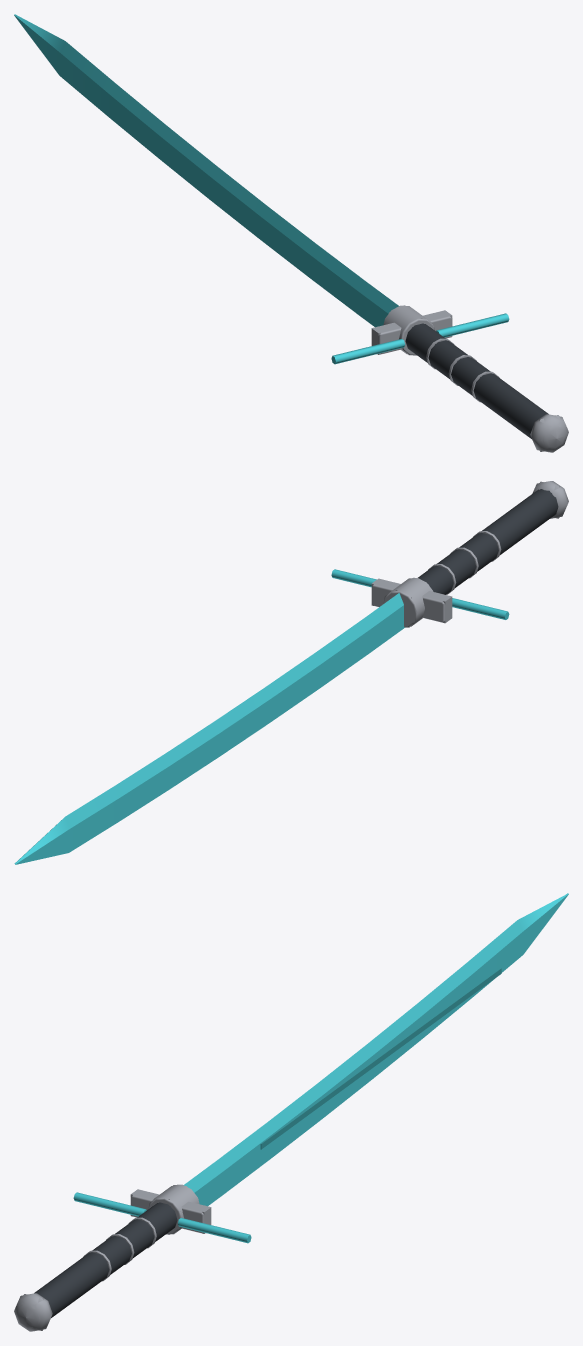
The model's file is m_arcsabre.glb.
3 views of the same model, one above another, from view 1: azimuth 30°, elevation 25°; view 2: azimuth 150°, elevation 25°; view 3: azimuth 330°, elevation 25° (orthographic).
Visible parts, largest first — view 1: L0, L1; view 2: L0, L1; view 3: L0, L1.
Part boxes in pixels (x1,y1,x2,y2): L0: (14, 14, 568, 452); L1: (371, 305, 567, 451); L0: (14, 481, 568, 864); L1: (371, 481, 559, 626); L0: (14, 893, 568, 1331); L1: (15, 1186, 211, 1330).
Bounding box in the file's own units: 0.2 × 0.0629 × 1.08.
